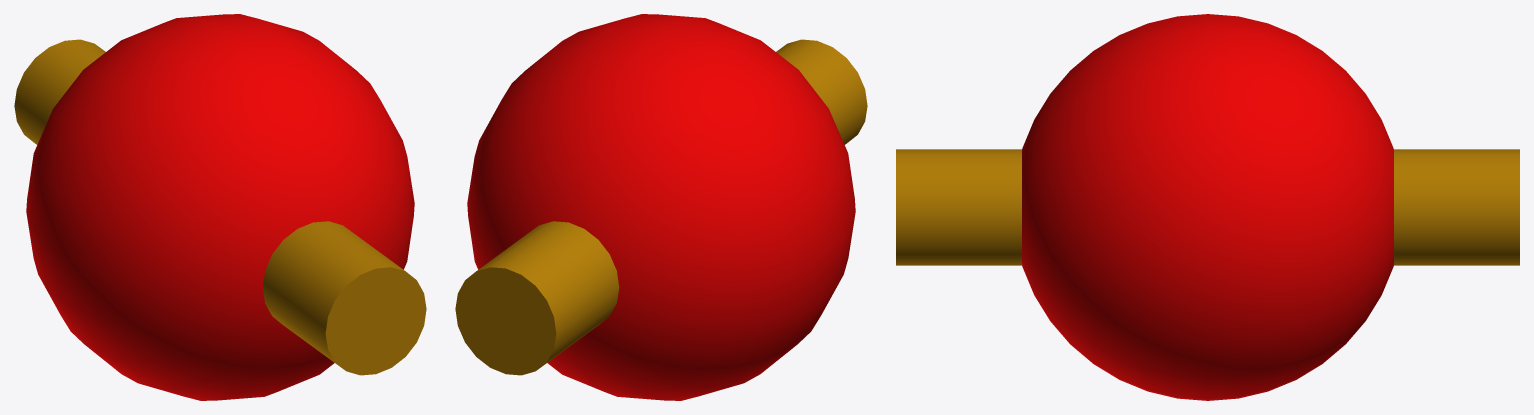
Rendered from TestEnemy.fbx.
The picture shows the model from 3 angles, left to right: view 1: azimuth 30°, elevation 25°; view 2: azimuth 150°, elevation 25°; view 3: azimuth 270°, elevation 25°; orthographic projection.
Parts seen in each view (by area): view 1: pSphere2; view 2: pSphere2; view 3: pSphere2.
Boxes of the visible parts, <box> form: pSphere2: <box>14,14,426,400</box>; pSphere2: <box>455,14,867,400</box>; pSphere2: <box>896,14,1519,400</box>.
Bounding box in the file's own units: 2 × 2 × 3.2.
